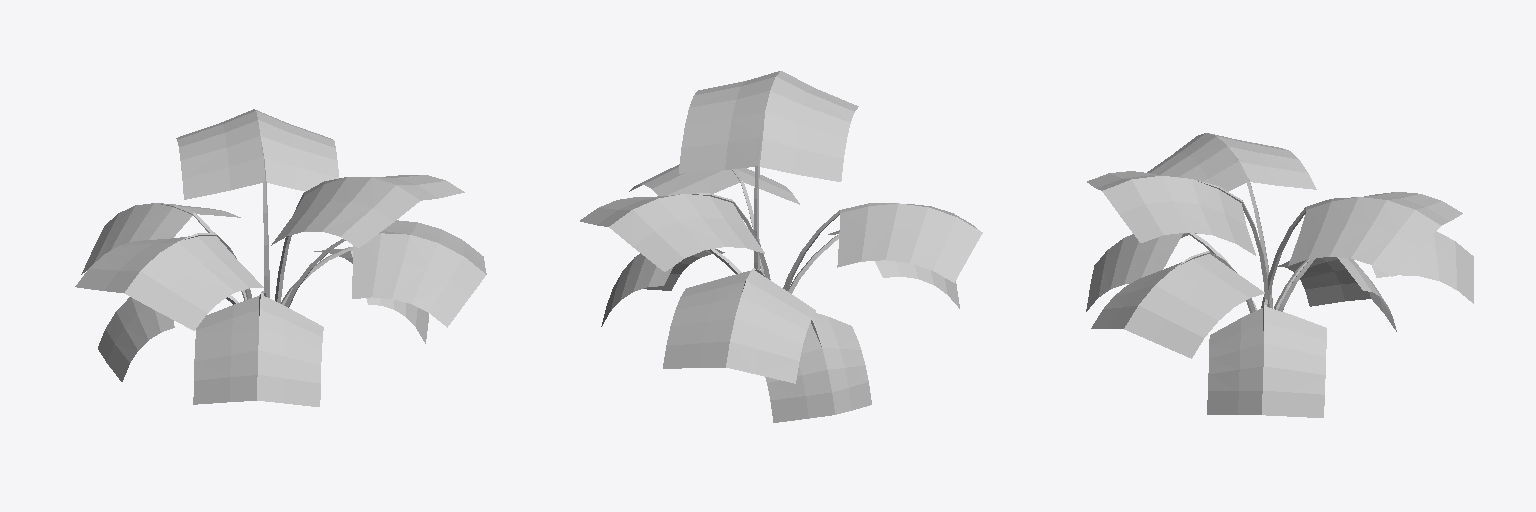
Rendered from monstera 02.obj.
3 views of the same model, side by side, from view 1: azimuth 30°, elevation 25°; view 2: azimuth 150°, elevation 25°; view 3: azimuth 270°, elevation 25° (orthographic).
Visible parts, largest first — view 1: tree; view 2: tree; view 3: tree.
Boxes of the visible parts, x1,y1,x2,y2 form: tree: [75, 109, 486, 406]; tree: [580, 71, 982, 422]; tree: [1086, 133, 1473, 417].
Size of the model in its own units: 143 by 80.91 by 131.